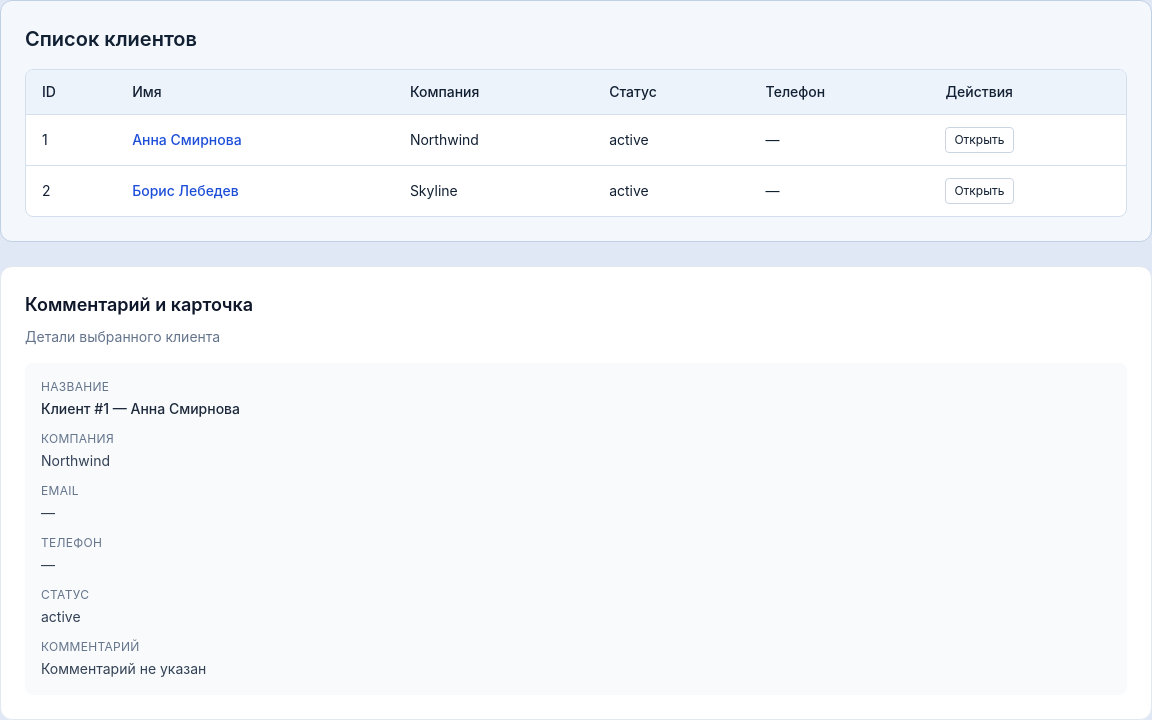
it: ClientsPage › selects first remaining client after deleting current selection
Click the button "Борис Лебедев".
click(185, 191)  # box x1=132 y1=181 x2=239 y2=201
(page scrolled)
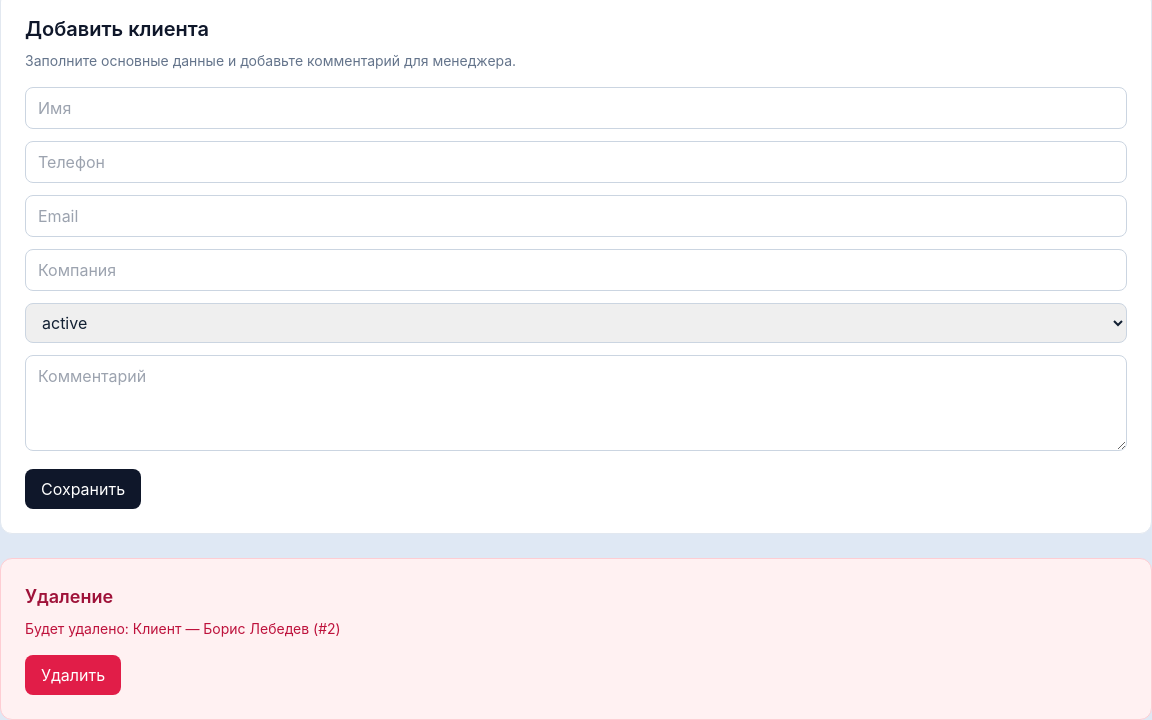
Click the button "Удалить".
click(73, 675)  # box x1=25 y1=655 x2=121 y2=695
(page scrolled)
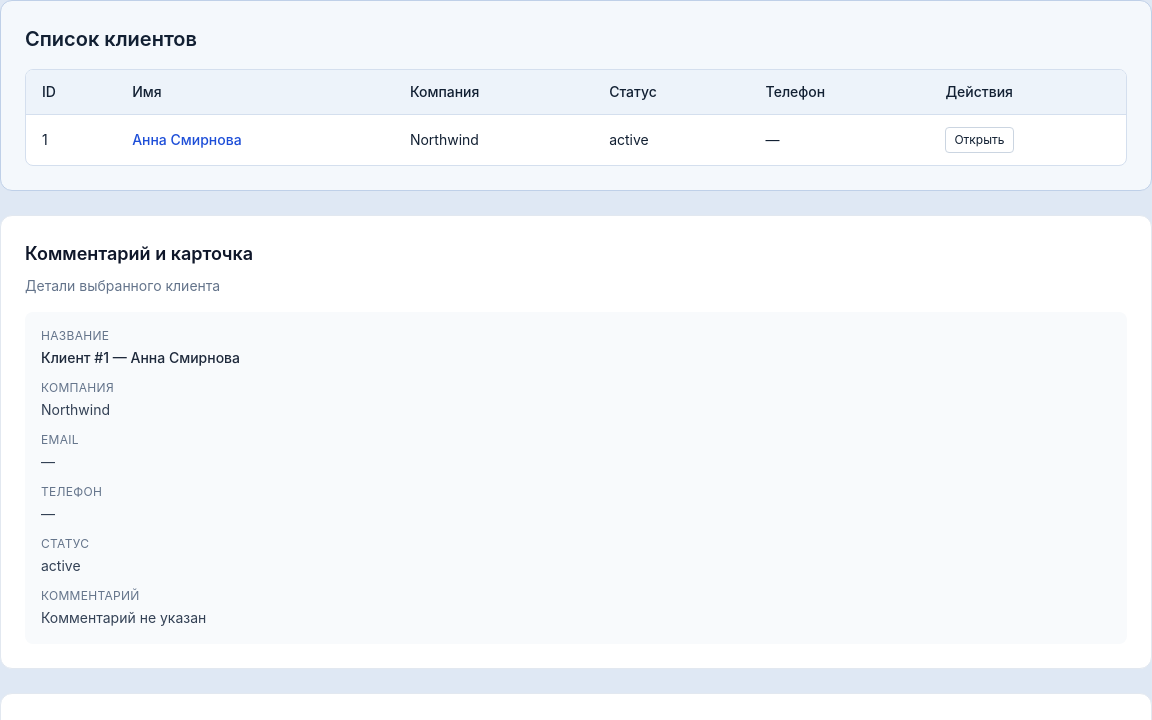
Expected: the text "Клиент #1 — Анна Смирнова" is shown, x1=41 y1=349 x2=240 y2=366
